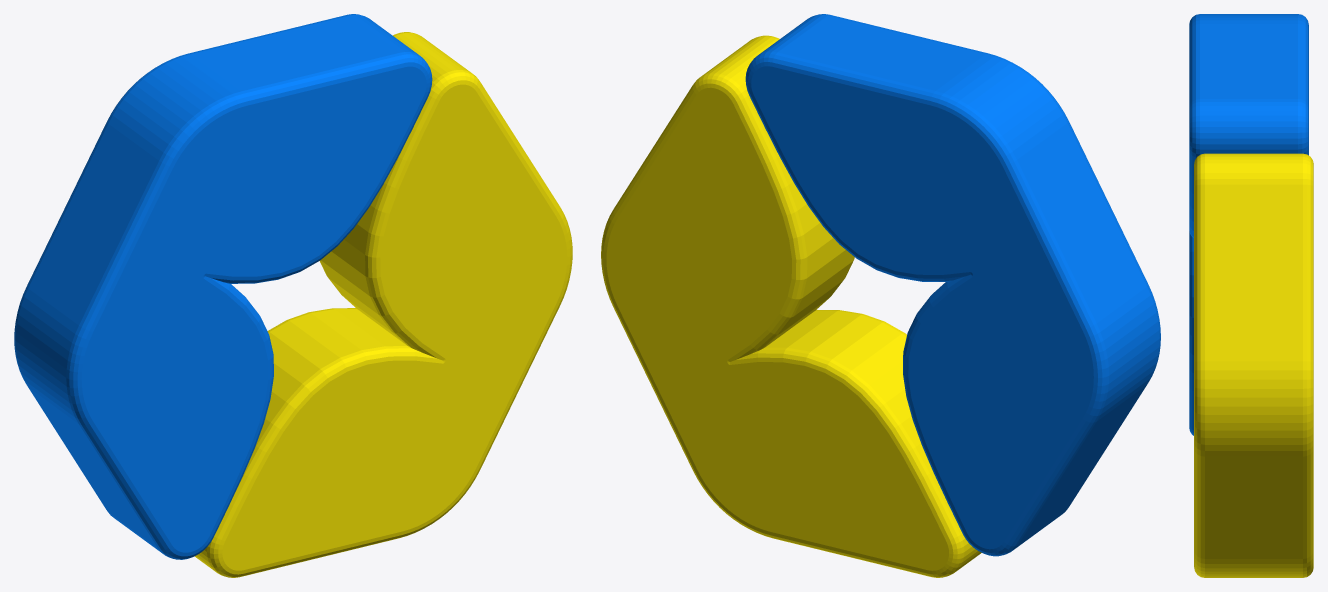
The model's file is iskra-mark.glb.
3 renders of one model, left to right at view 1: azimuth 30°, elevation 25°; view 2: azimuth 150°, elevation 25°; view 3: azimuth 270°, elevation 25°, orthographic. The views are drawn at different scales.
Visible parts, largest first — view 1: spark-blue, spark-yellow; view 2: spark-blue, spark-yellow; view 3: spark-yellow, spark-blue.
Boxes of the visible parts, x1=… form: spark-blue: x1=14, y1=14, x2=432, y2=559; spark-yellow: x1=195, y1=32, x2=572, y2=577; spark-blue: x1=745, y1=14, x2=1160, y2=556; spark-yellow: x1=601, y1=35, x2=981, y2=577; spark-yellow: x1=1194, y1=153, x2=1313, y2=577; spark-blue: x1=1189, y1=14, x2=1308, y2=435.
Bounding box in the file's own units: 104 × 95.27 × 22.9.
